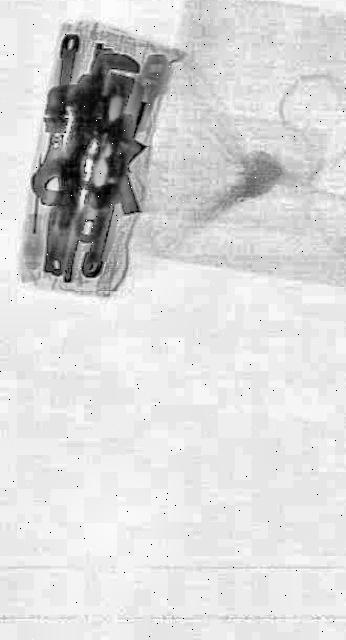Wrench: (29, 29, 85, 210)
